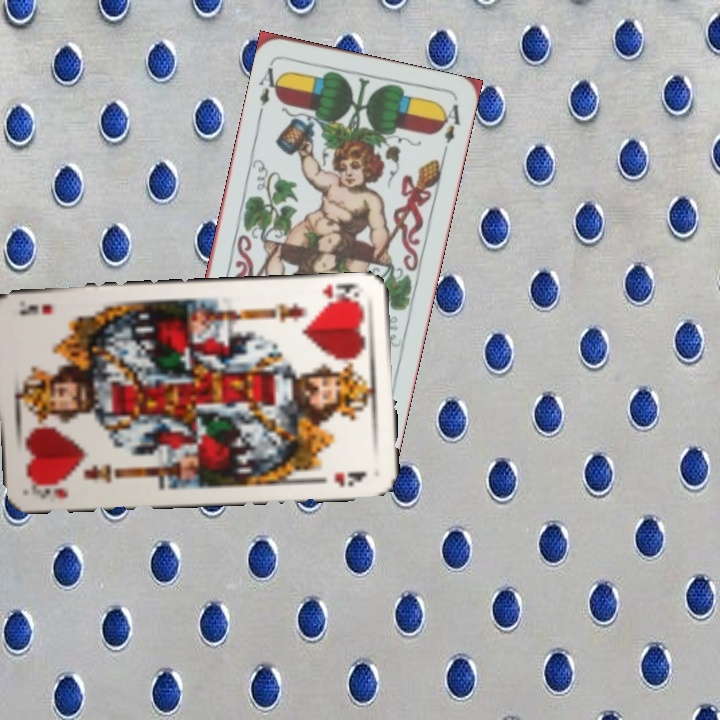EA: (255, 63, 285, 108)
HK: (319, 280, 362, 307), (30, 477, 72, 501)
